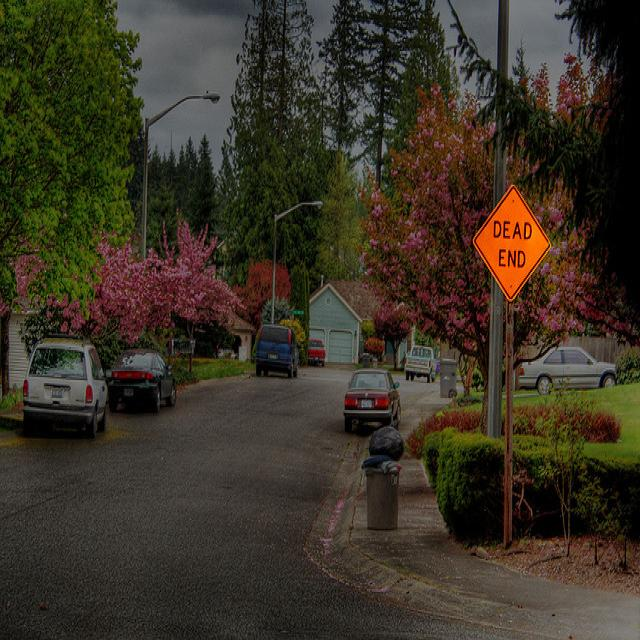Vehicle: (19, 338, 111, 432), (517, 346, 617, 394), (108, 349, 178, 411), (342, 369, 401, 433), (254, 324, 298, 380), (405, 344, 438, 384), (305, 339, 325, 367), (216, 343, 234, 359)
